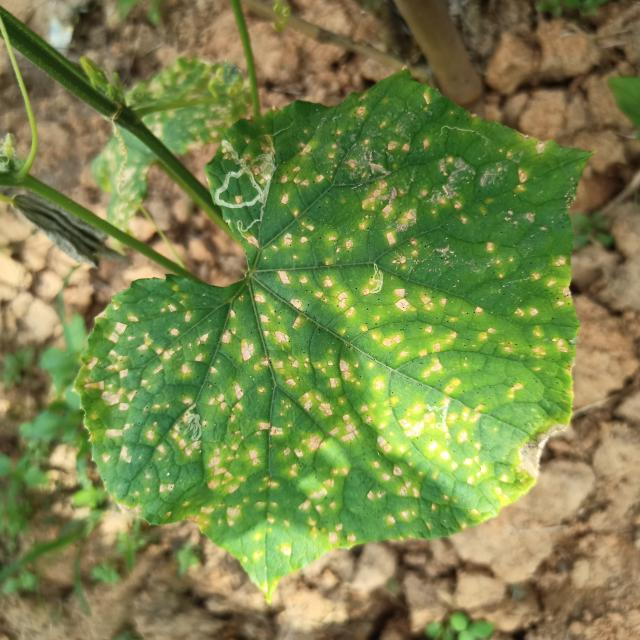disease_cucumber: (94, 119, 562, 561)
